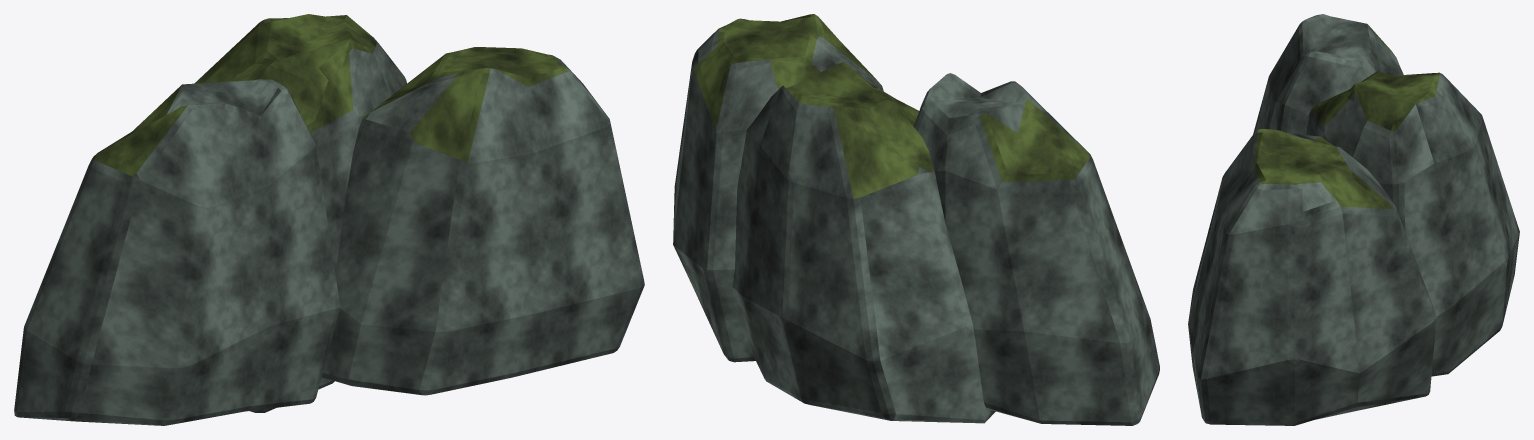
The model's file is rock_1.glb.
3 renders of one model, left to right at view 1: azimuth 30°, elevation 25°; view 2: azimuth 150°, elevation 25°; view 3: azimuth 270°, elevation 25°, orthographic. The views are drawn at different scales.
Visible parts, largest first — view 1: rock_1Mesh; view 2: rock_1Mesh; view 3: rock_1Mesh.
Part boxes in pixels (bbox=[...]): rock_1Mesh: bbox=[14, 14, 644, 425]; rock_1Mesh: bbox=[673, 14, 1159, 425]; rock_1Mesh: bbox=[1188, 14, 1519, 425].
Size of the model in its own units: 3.98 by 2.2 by 2.38.
2 materials, 2 textured.
